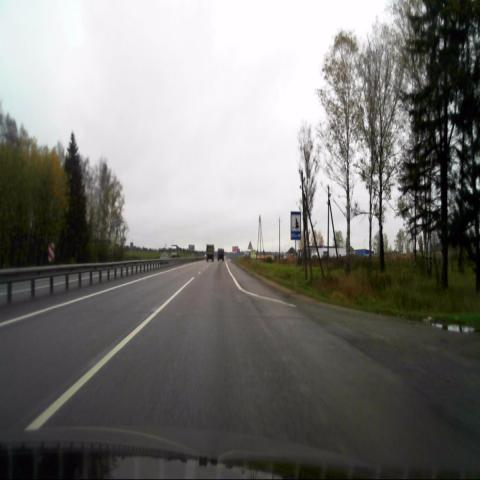7_11: (290, 211, 301, 240)
